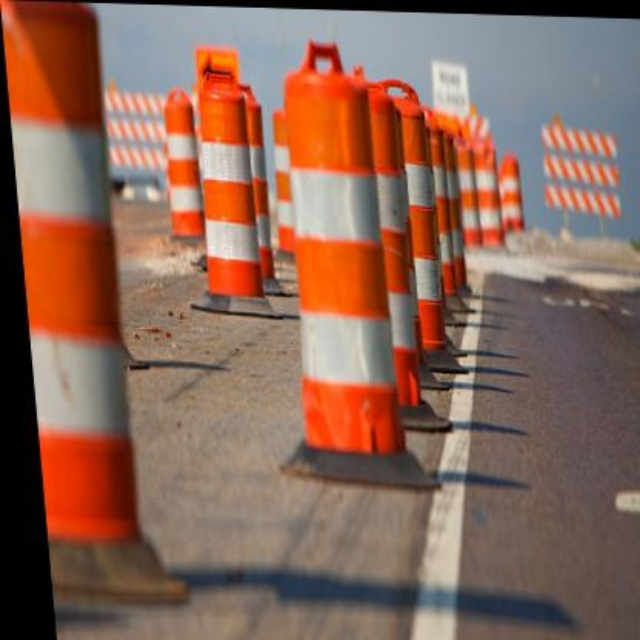obstacle: (3, 6, 173, 602), (274, 48, 398, 459), (189, 79, 258, 299), (158, 91, 203, 252)
